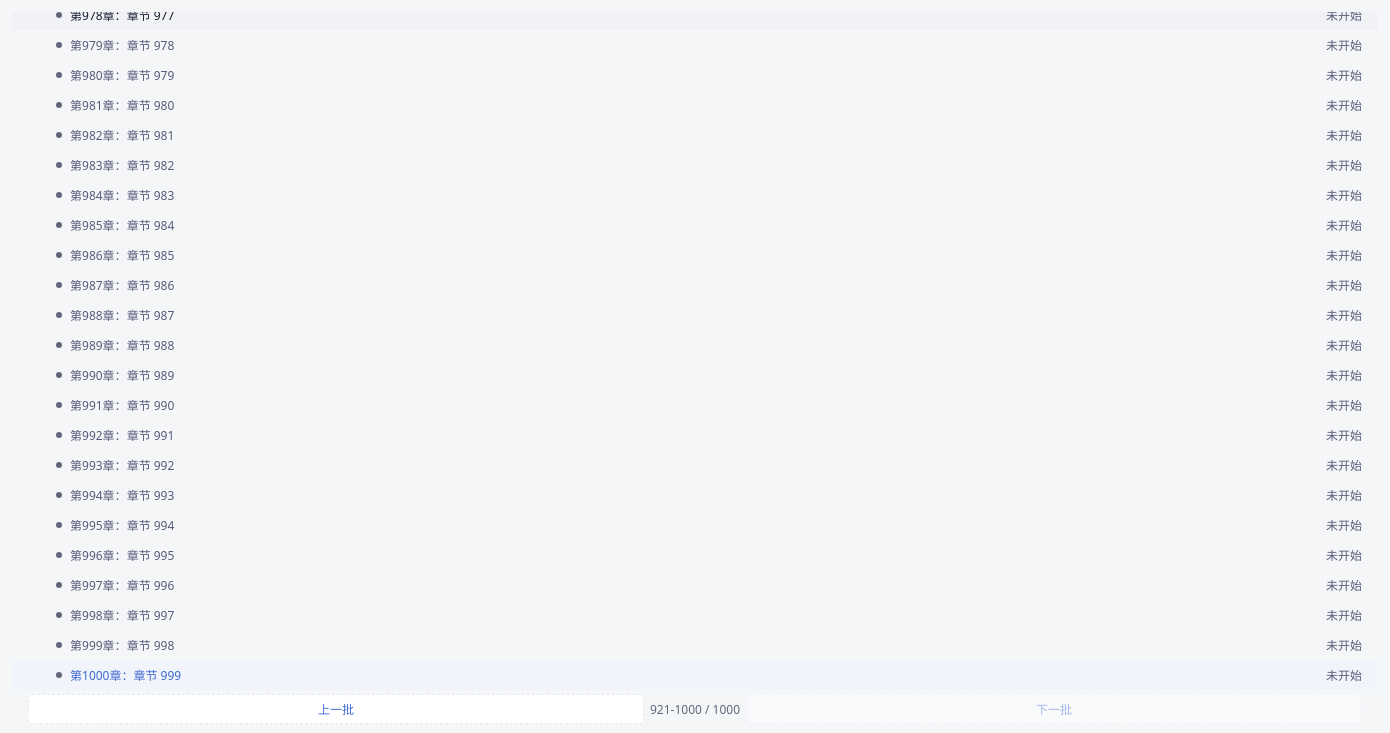
Test: VolumeTree chapter window › keeps a 1,000-chapter volume bounded while centering a late active chapter
The image size is (1390, 733).
(page scrolled)
Check: the button with test id "chapter-item" showing "第1000章：章节 999 未开始" is shown, box [12,660,1378,690]
Check: the text "921-1000 / 1000" is shown, box [650,700,740,719]
Click the button "上一批" at x=336, y=709, box [28,694,644,724]
(page scrolled)
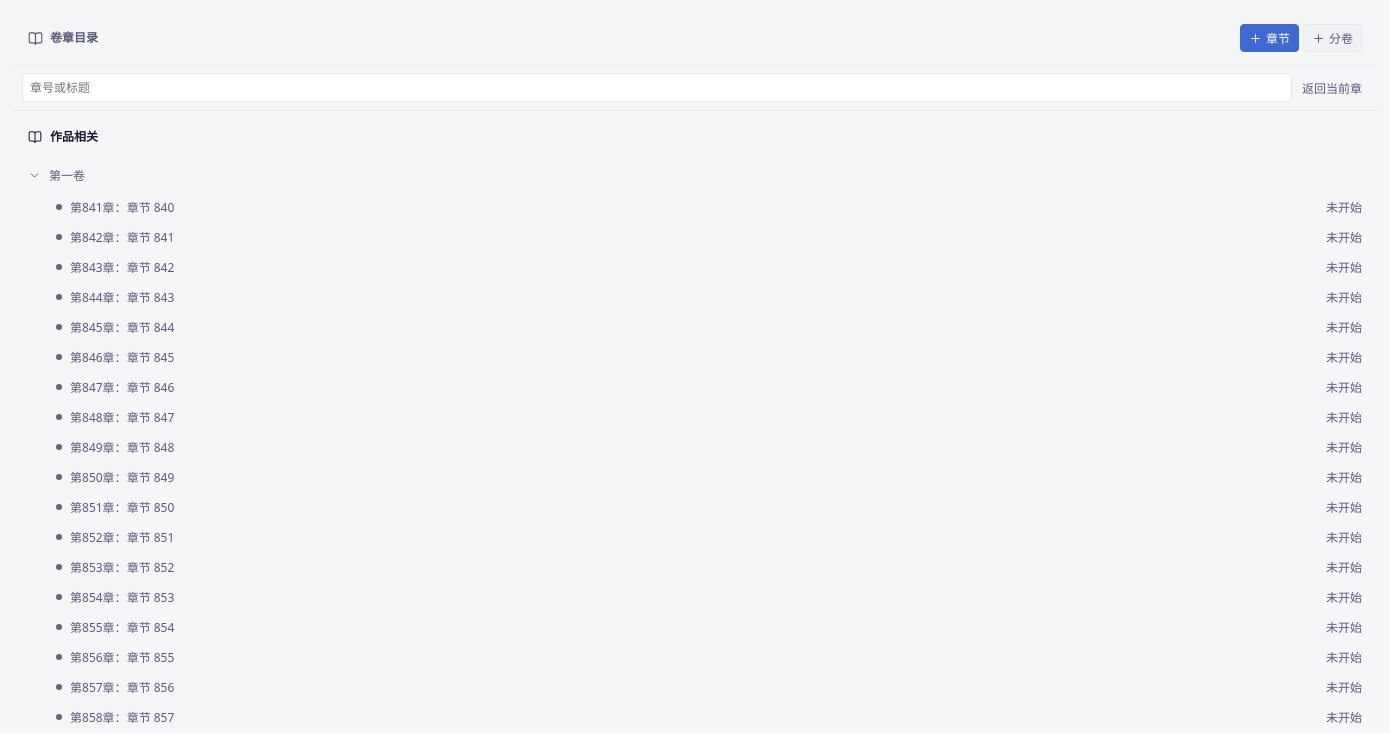
Click the button "返回当前章" at x=1332, y=88, box [1296,73,1368,102]
(page scrolled)
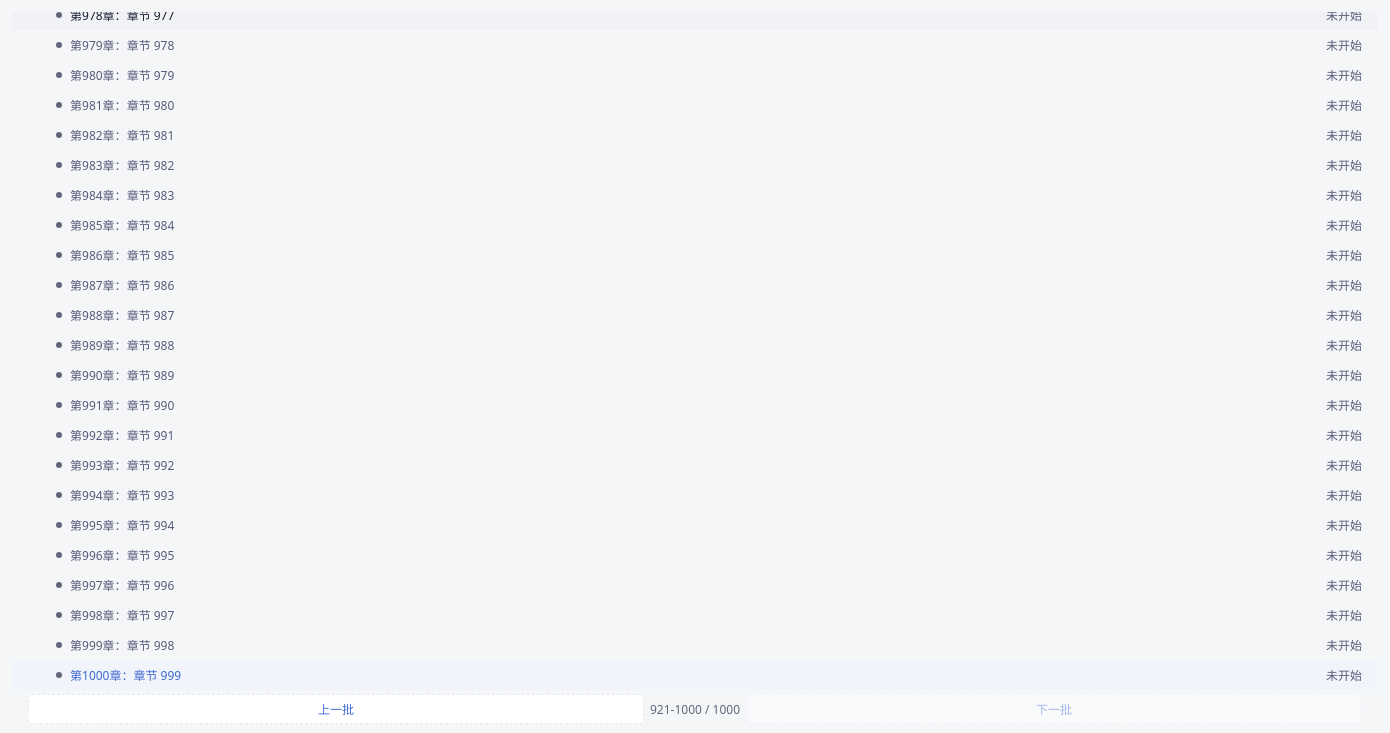
Check: the text "921-1000 / 1000" is shown, box [650,700,740,719]
